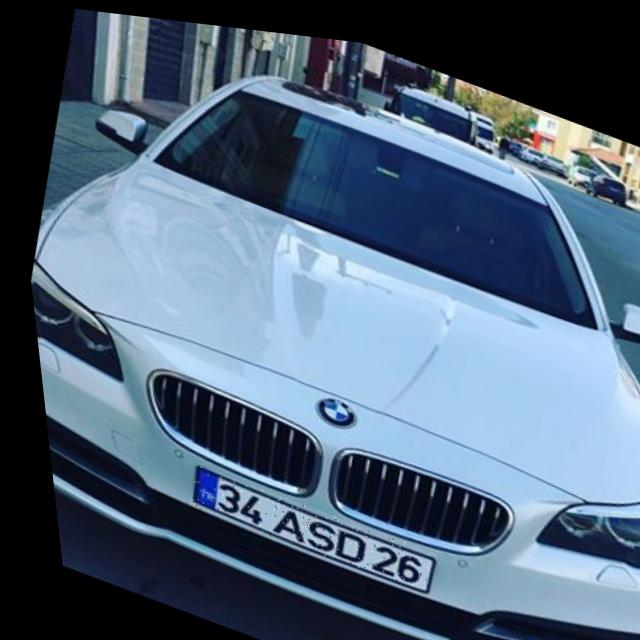license_plate: (174, 459, 427, 587)
